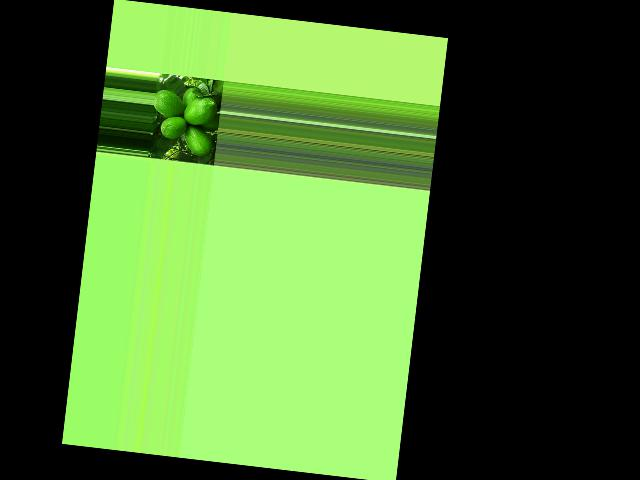lemon: (181, 122, 214, 158)
